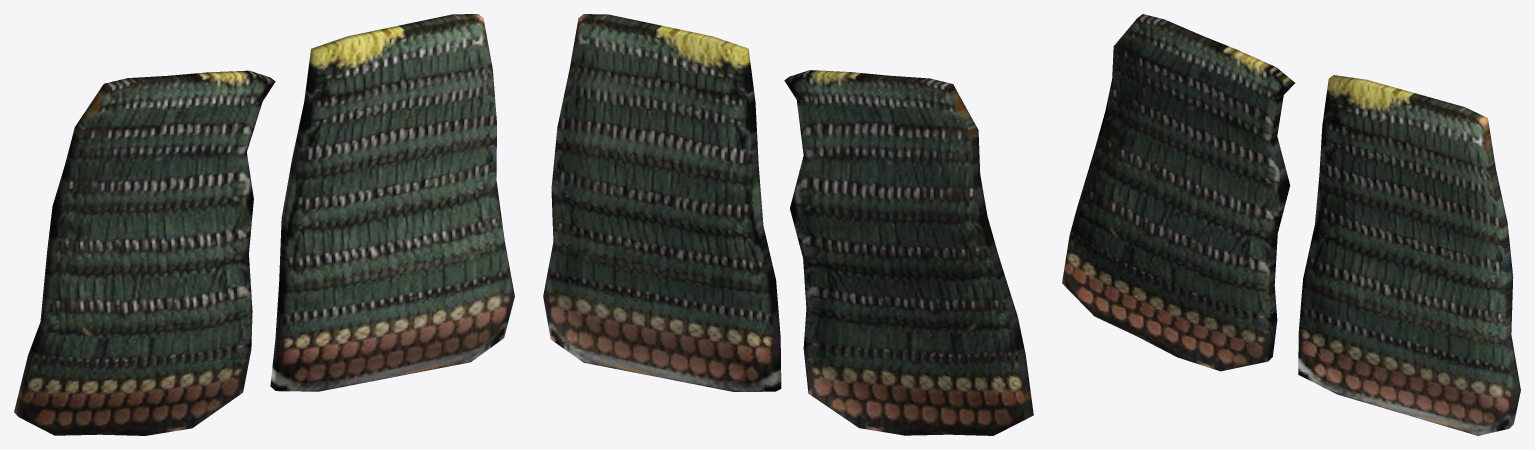
The model's file is armor_tare_rear.fbx.
3 renders of one model, left to right at view 1: azimuth 30°, elevation 25°; view 2: azimuth 150°, elevation 25°; view 3: azimuth 330°, elevation 25°, orthographic. The views are drawn at different scales.
Visible parts, largest first — view 1: Plane.023; view 2: Plane.023; view 3: Plane.023.
Boxes of the visible parts, x1,y1,x2,y2 form: Plane.023: (14,14,514,435); Plane.023: (543,14,1033,435); Plane.023: (1062,14,1520,435).
Bounding box in the file's own units: 51.73 × 36.62 × 2.96.
Materials: 1 (1 with a texture image).
